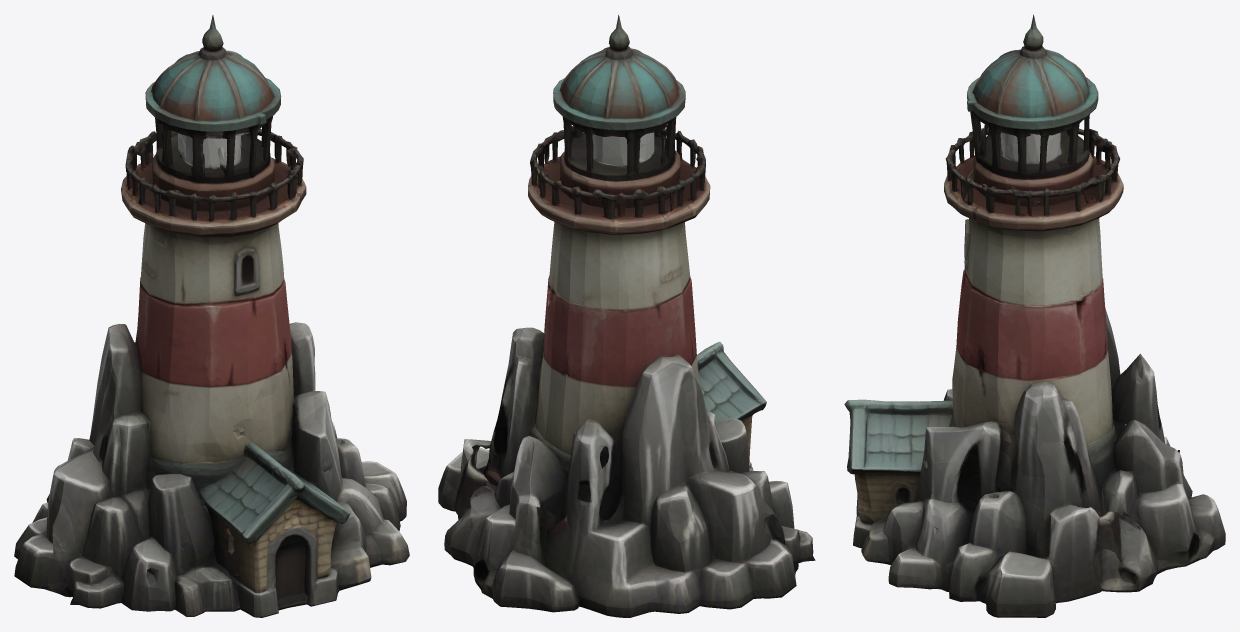
The model's file is lighthouse.glb.
3 renders of one model, left to right at view 1: azimuth 30°, elevation 25°; view 2: azimuth 150°, elevation 25°; view 3: azimuth 270°, elevation 25°, orthographic.
Parts seen in each view (by area): view 1: geometry_0; view 2: geometry_0; view 3: geometry_0.
Boxes of the visible parts, left/top/right/bottom form: geometry_0: left=14, top=15, right=409, bottom=617; geometry_0: left=438, top=15, right=815, bottom=617; geometry_0: left=844, top=14, right=1225, bottom=617.
Size of the model in its own units: 0.7045 by 1 by 0.6645.
1 material, 1 textured.
